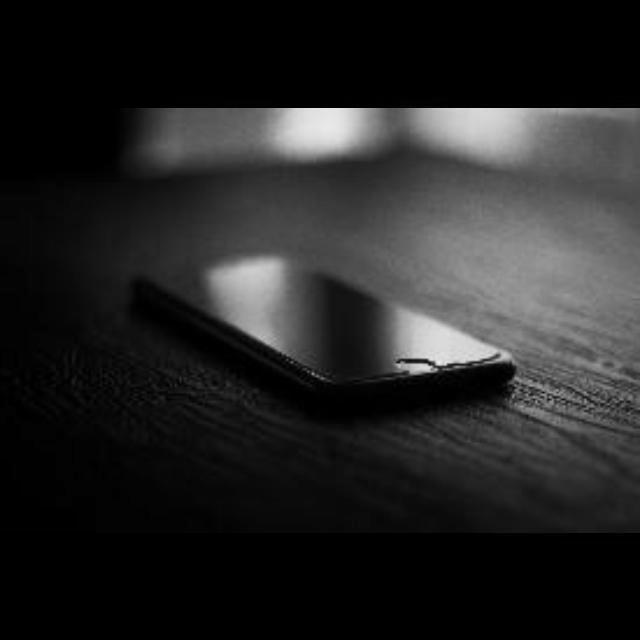fake: (124, 237, 550, 426)
